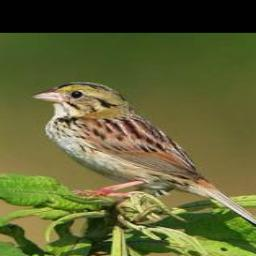Sparrow: (28, 79, 256, 241)
